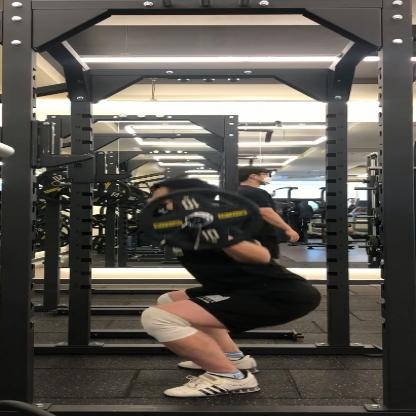Barbell: (132, 183, 268, 256)
